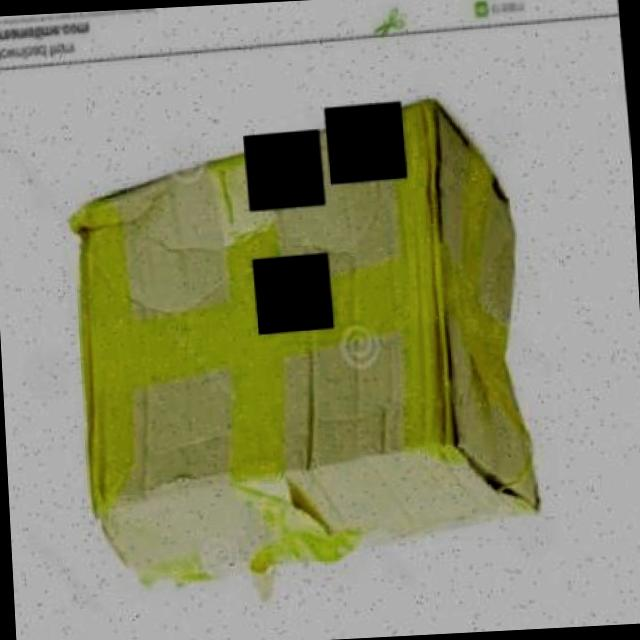box: (48, 90, 566, 610)
